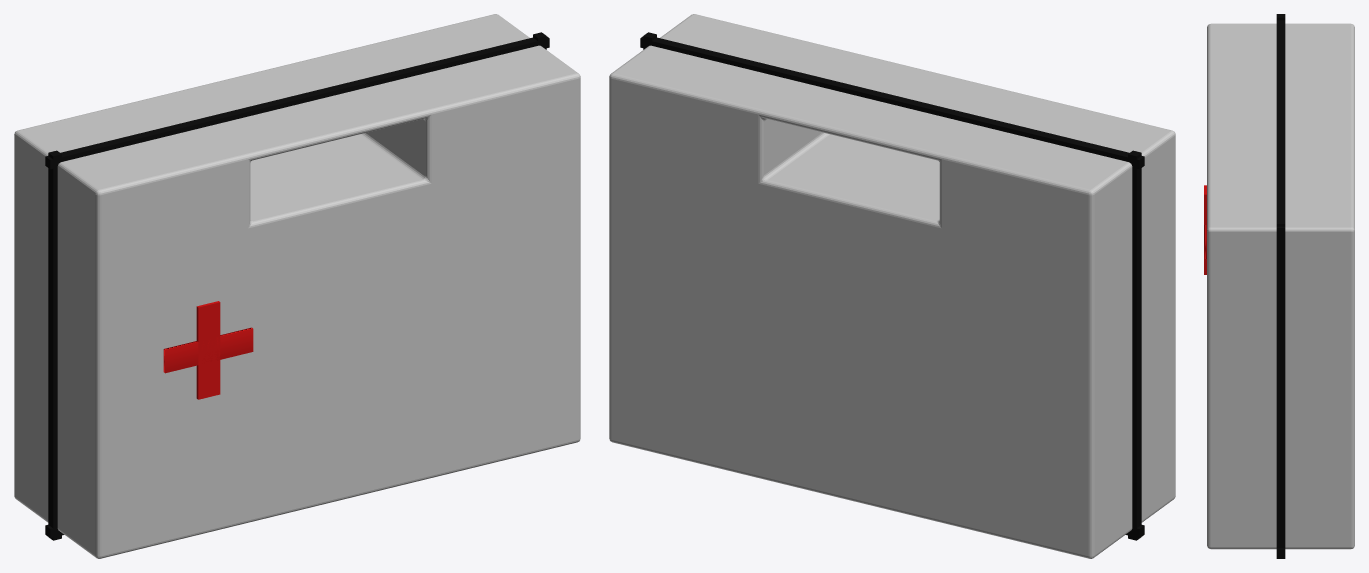
Rendered from Emergency_kit.obj.
The picture shows the model from 3 angles, left to right: view 1: azimuth 30°, elevation 25°; view 2: azimuth 150°, elevation 25°; view 3: azimuth 270°, elevation 25°; orthographic projection. The views are drawn at different scales.
Parts seen in each view (by area): view 1: ARC_Emergency_Kit, TopStrip, LeftStrip, Cube, Cube.001; view 2: ARC_Emergency_Kit, TopStrip, LeftStrip; view 3: ARC_Emergency_Kit, RightStrip, TopStrip.
Boxes of the visible parts, box(x1,y1,x2,y2) form: ARC_Emergency_Kit: box(14, 14, 580, 558); TopStrip: box(45, 36, 549, 169); LeftStrip: box(48, 150, 61, 540); Cube: box(196, 301, 220, 399); Cube.001: box(163, 327, 253, 373); ARC_Emergency_Kit: box(609, 14, 1175, 558); TopStrip: box(640, 36, 1144, 169); LeftStrip: box(1128, 150, 1141, 540); ARC_Emergency_Kit: box(1207, 23, 1354, 549); RightStrip: box(1276, 220, 1285, 558); TopStrip: box(1276, 20, 1285, 235).
Size of the model in its own units: 0.34 by 0.25 by 0.102.
